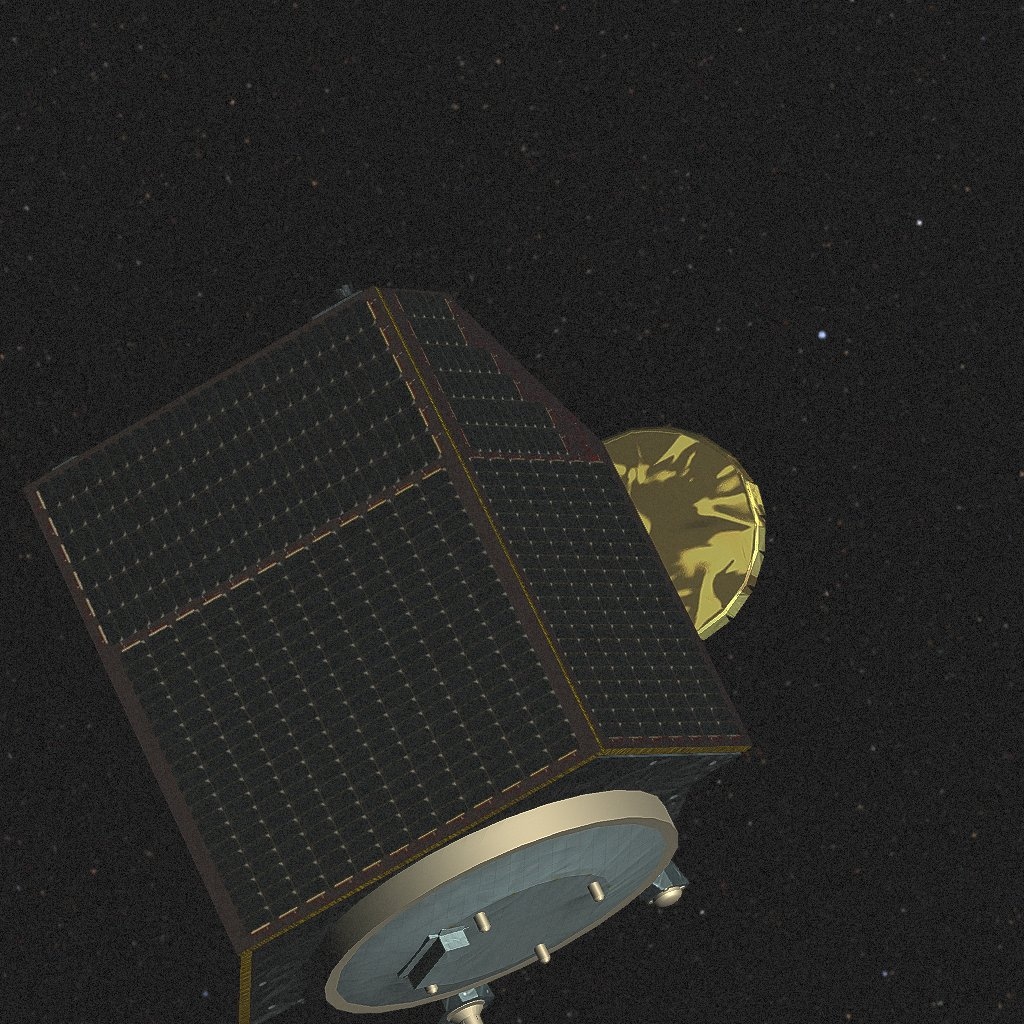cheops: (23, 285, 765, 1024)
